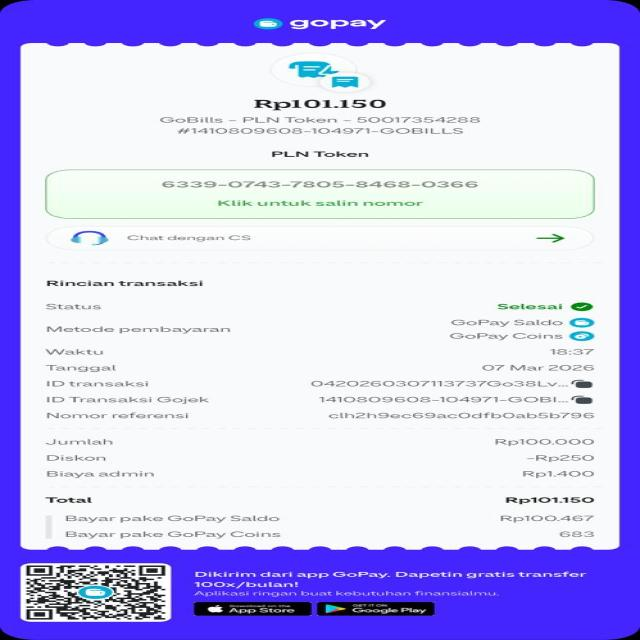date: (476, 363, 602, 374)
store: (267, 149, 378, 163)
total: (43, 496, 606, 505)
